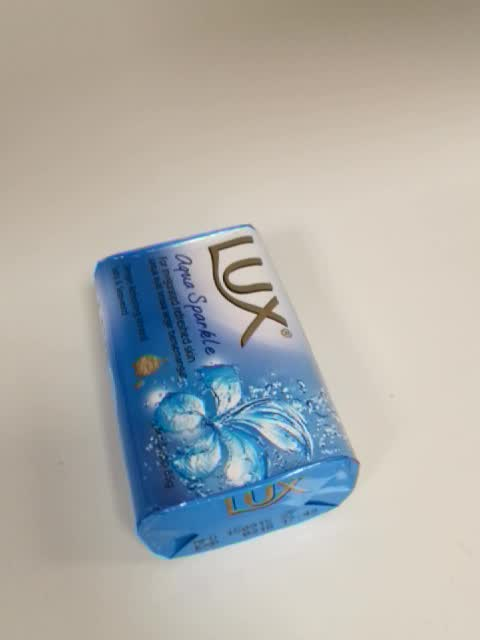soap: (88, 219, 366, 563)
